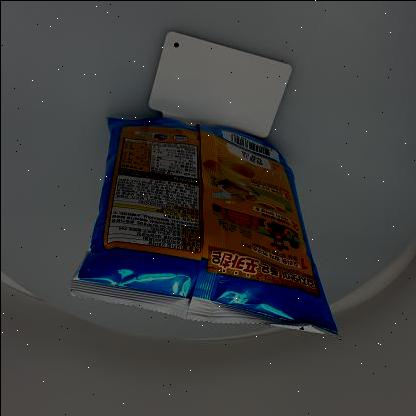Others: (66, 88, 356, 368)
